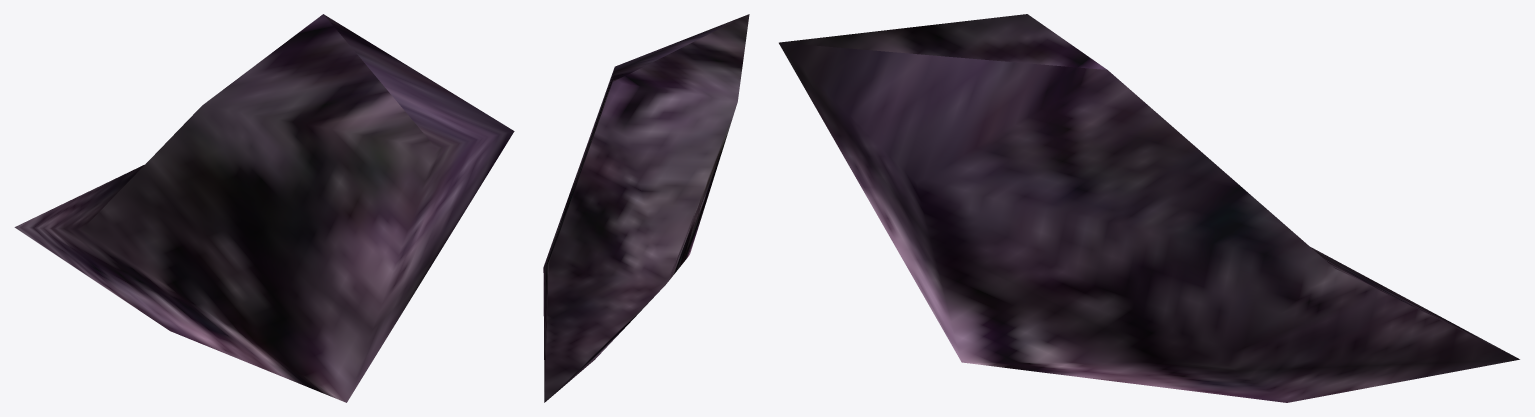
File: condra_7_stone.glb
3 views of the same model, side by side, from view 1: azimuth 30°, elevation 25°; view 2: azimuth 150°, elevation 25°; view 3: azimuth 270°, elevation 25° (orthographic). The views are drawn at different scales.
Parts seen in each view (by area): view 1: model_condra_7_stone; view 2: model_condra_7_stone; view 3: model_condra_7_stone.
Part boxes in pixels (left/top/right/bottom): model_condra_7_stone: left=14, top=14, right=514, bottom=402; model_condra_7_stone: left=543, top=14, right=749, bottom=402; model_condra_7_stone: left=779, top=14, right=1519, bottom=402.
Bounding box in the file's own units: 0.1894 × 0.2599 × 0.4803.
1 material, 1 textured.
